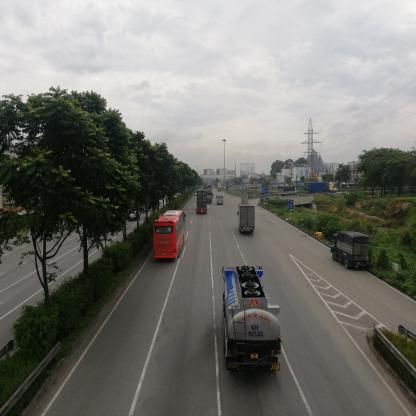bus: (155, 212, 187, 259), (217, 194, 224, 205)
container: (307, 182, 339, 193), (197, 191, 207, 215)
truck: (223, 268, 283, 372), (333, 230, 370, 272), (240, 206, 255, 234), (279, 186, 298, 196), (243, 195, 249, 204)
